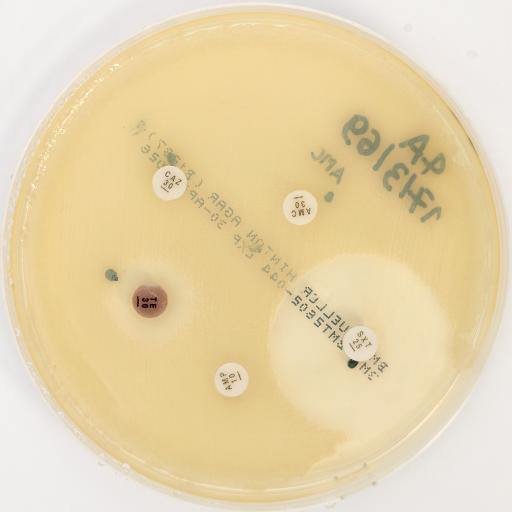disc: (214, 362, 250, 398), (282, 190, 318, 225), (343, 325, 378, 361), (132, 283, 167, 319), (152, 166, 187, 200)
